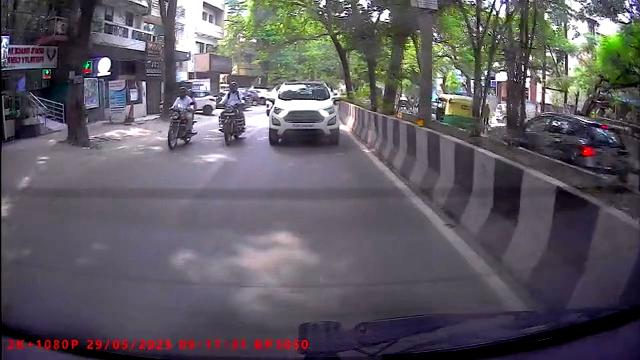motorcycle_with_helmet: (212, 83, 251, 147), (167, 85, 195, 150)
